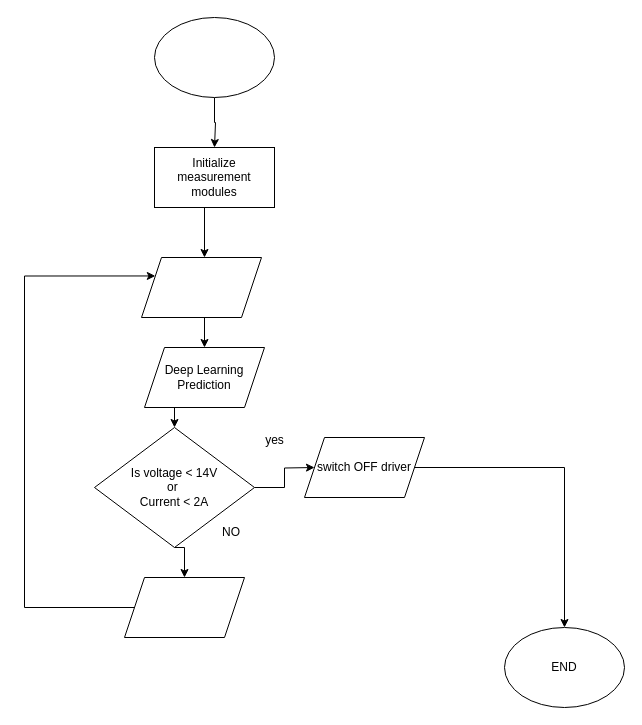
Image size: 642x725. Some labels were removed from this diagram. The centre of each missing label's shape, as x and y in pixels:
"Read measurement" goes at (x=201, y=287).
"START" goes at (x=214, y=57).
"switch ON driver or Keep driver ON" goes at (x=184, y=607).
